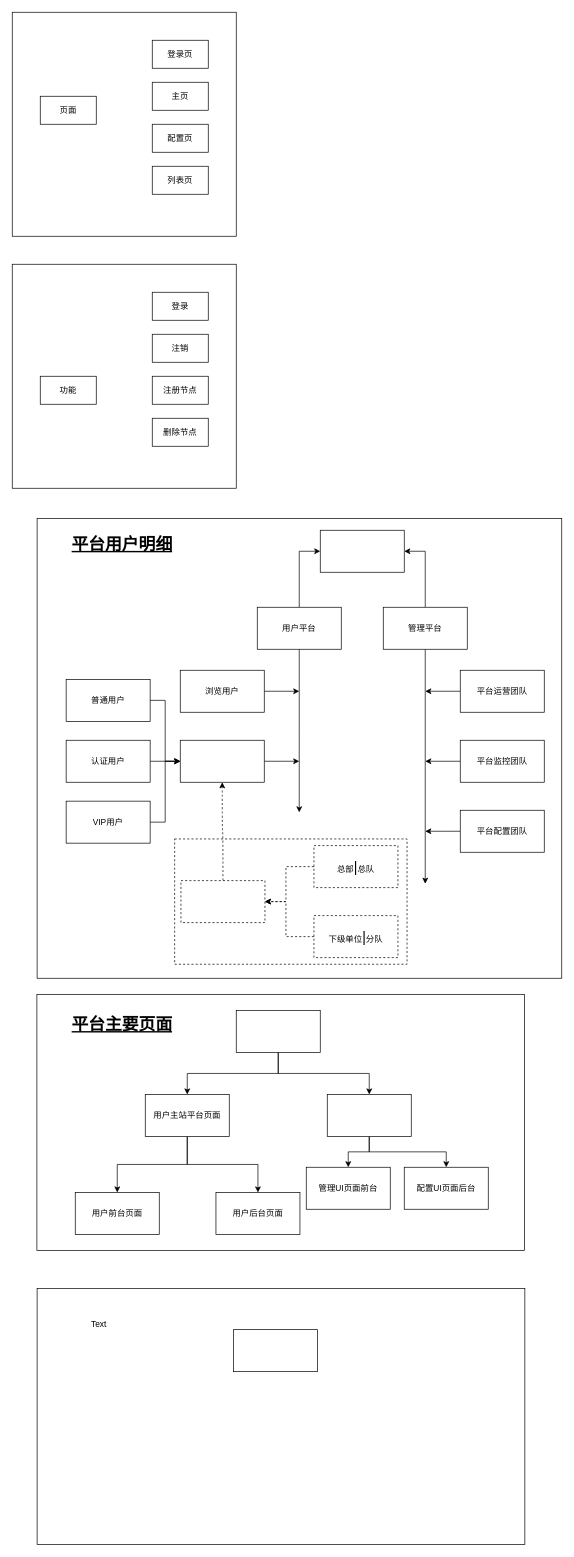
This 574x1557 diagram has some shape labels left out. The centre of each missing label's shape, as x and y in pixels:
后端管理平台页面: the point at 369,1115
平台模块: the point at 275,1350
平台用户: the point at 362,551
平台页面: the point at 278,1031
注册用户: the point at 222,761
组织/战队: the point at 222,901
